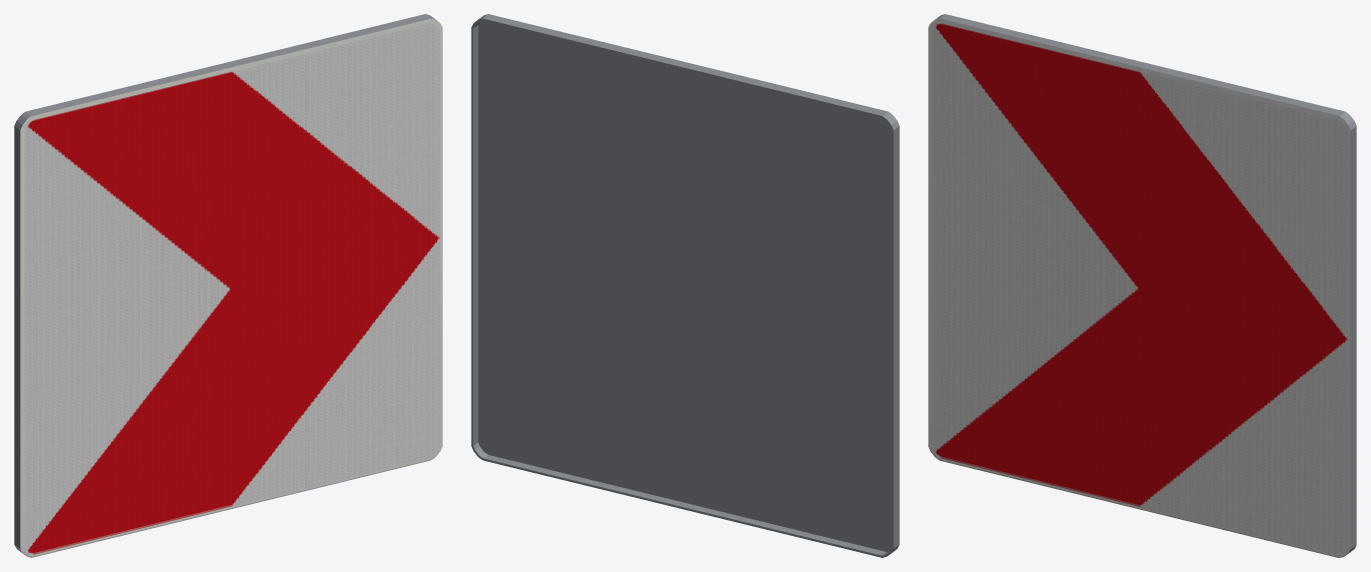
The picture shows the model from 3 angles, left to right: view 1: azimuth 30°, elevation 25°; view 2: azimuth 150°, elevation 25°; view 3: azimuth 330°, elevation 25°; orthographic projection.
Parts seen in each view (by area): view 1: cat_2beb0fc8f4344491; view 2: cat_2beb0fc8f4344491; view 3: cat_2beb0fc8f4344491.
Part boxes in pixels (bbox=[...]): cat_2beb0fc8f4344491: bbox=[14, 14, 442, 557]; cat_2beb0fc8f4344491: bbox=[471, 14, 899, 557]; cat_2beb0fc8f4344491: bbox=[928, 14, 1356, 557].
Bounding box in the file's own units: 0.6 × 0.015 × 0.6.
Materials: 2 (1 with a texture image).
